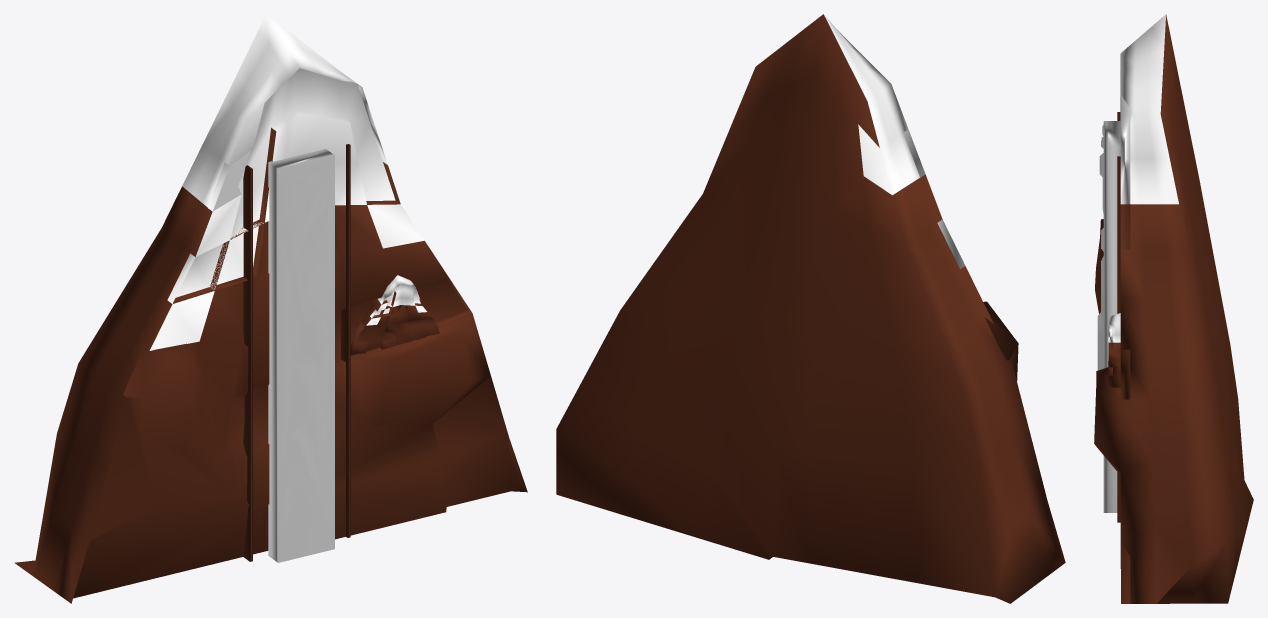
Rendered from WATERFALL1O (10).fbx.
The picture shows the model from 3 angles, left to right: view 1: azimuth 30°, elevation 25°; view 2: azimuth 150°, elevation 25°; view 3: azimuth 270°, elevation 25°; orthographic projection. The views are drawn at different scales.
Parts seen in each view (by area): view 1: Cube.002, Cube.008, Cube.004, Cube.006; view 2: Cube.002; view 3: Cube.002, Cube.008, Cube.006.
Part boxes in pixels (x1,y1,x2,y2): Cube.002: (14, 14, 527, 603); Cube.008: (268, 149, 334, 562); Cube.004: (243, 165, 252, 561); Cube.006: (341, 144, 350, 537); Cube.002: (556, 14, 1065, 603); Cube.002: (1094, 14, 1253, 603); Cube.008: (1097, 121, 1120, 512); Cube.006: (1117, 156, 1120, 522).
Size of the model in its own units: 7283 by 7897 by 2366.
